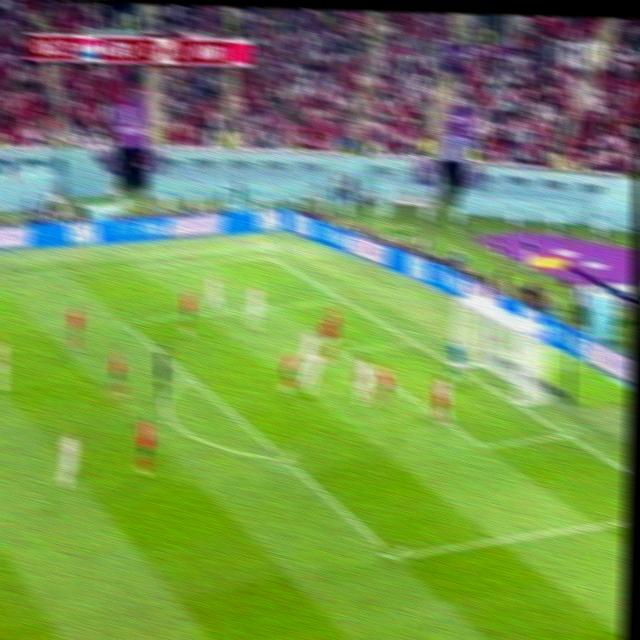bigarea_bottom_inner: (379, 539, 408, 571)
bigarea_top_inner: (113, 309, 133, 331)
bigarea_top_outter: (331, 290, 351, 307)
bottom_arc_area_intersection: (273, 447, 295, 470)
corner: (257, 248, 277, 263)
smallarea_bottom_inner: (471, 431, 494, 460)
smallarea_bottom_outter: (553, 422, 577, 446)
smallarea_top_inner: (331, 339, 350, 361)
smallarea_top_outter: (402, 330, 423, 352)
top_arc_area_intersection: (180, 367, 199, 386)
